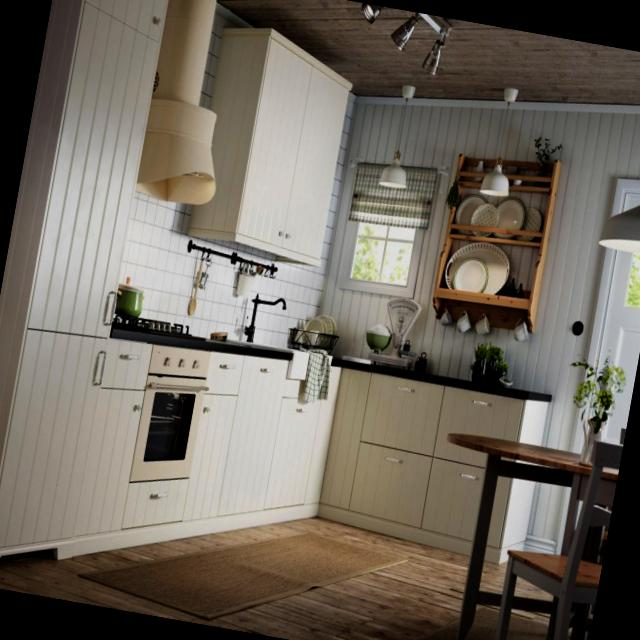footpath: (180, 508, 419, 640)
obstacle: (406, 409, 624, 640)
